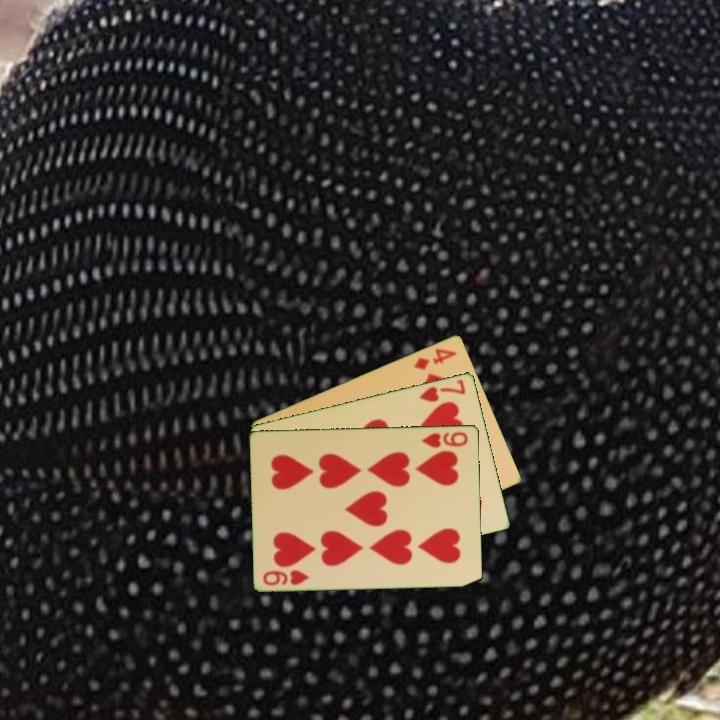4d: (410, 344, 460, 373)
7h: (416, 375, 469, 405)
9h: (419, 428, 471, 450), (260, 566, 312, 588)
